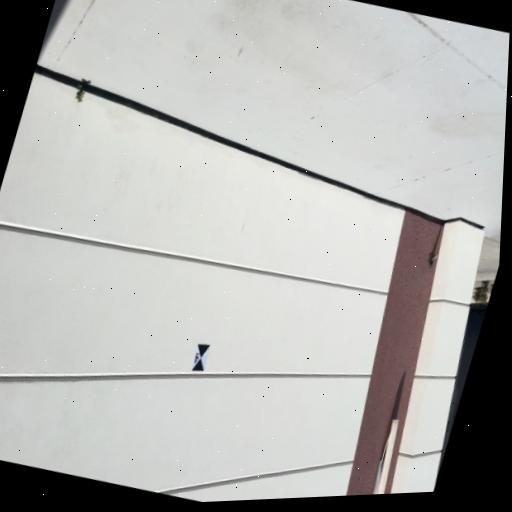target4: (191, 344, 210, 372)
